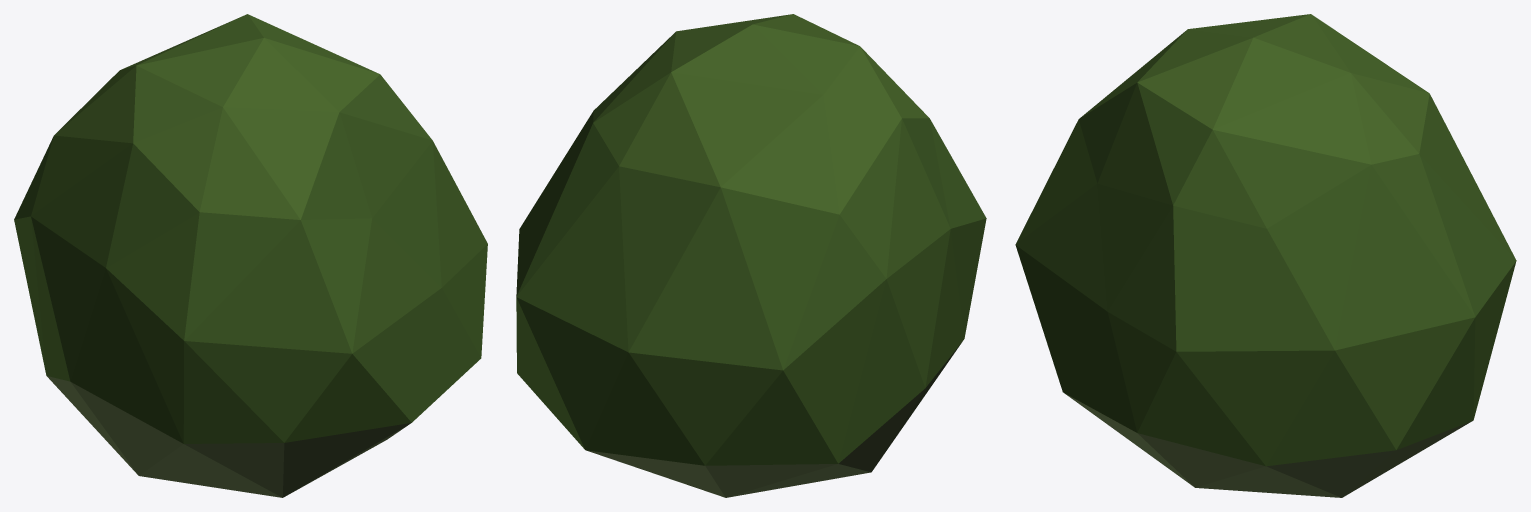
The model's file is bush.fbx.
The picture shows the model from 3 angles, left to right: view 1: azimuth 30°, elevation 25°; view 2: azimuth 150°, elevation 25°; view 3: azimuth 270°, elevation 25°; orthographic projection.
Visible parts, largest first — view 1: Icosphere; view 2: Icosphere; view 3: Icosphere.
Boxes of the visible parts, left/top/right/bottom form: Icosphere: left=14, top=14, right=487, bottom=497; Icosphere: left=516, top=14, right=986, bottom=497; Icosphere: left=1015, top=14, right=1516, bottom=497.
Size of the model in its own units: 162 by 177 by 188.
